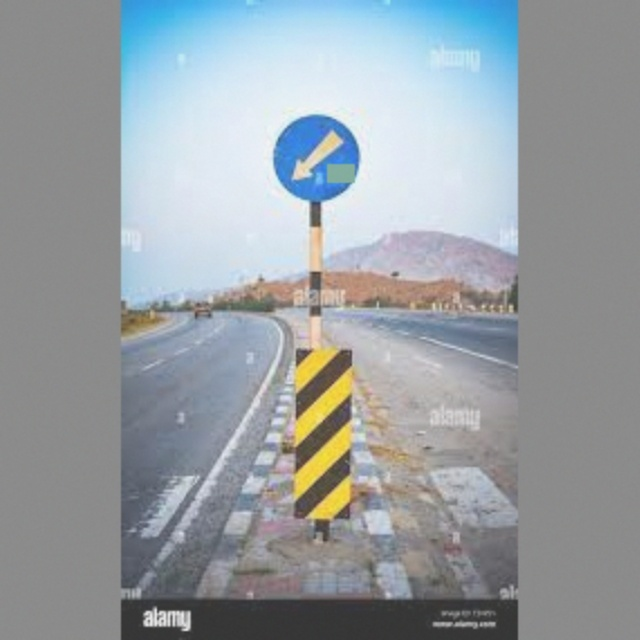Compulsory_Keep_Left: (270, 113, 372, 206)
